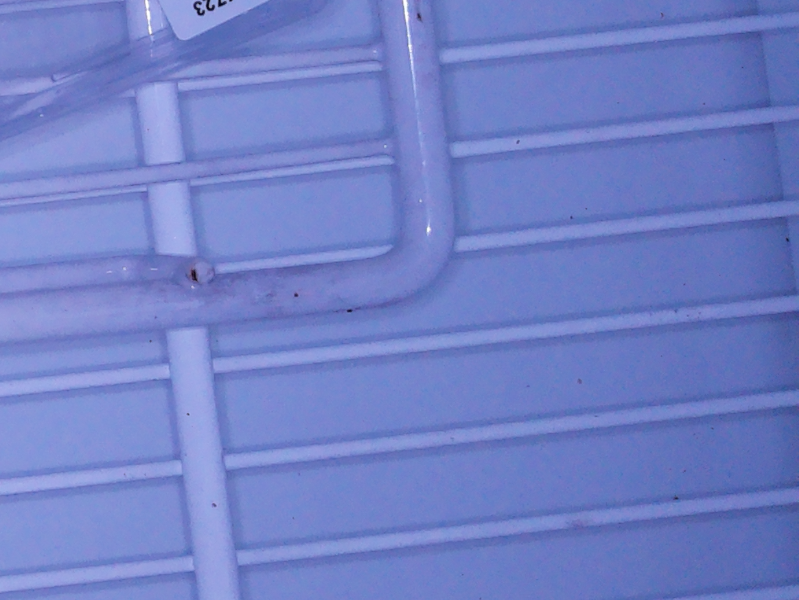plate: (1, 1, 326, 139)
